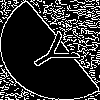Y: (24, 25, 90, 78)
